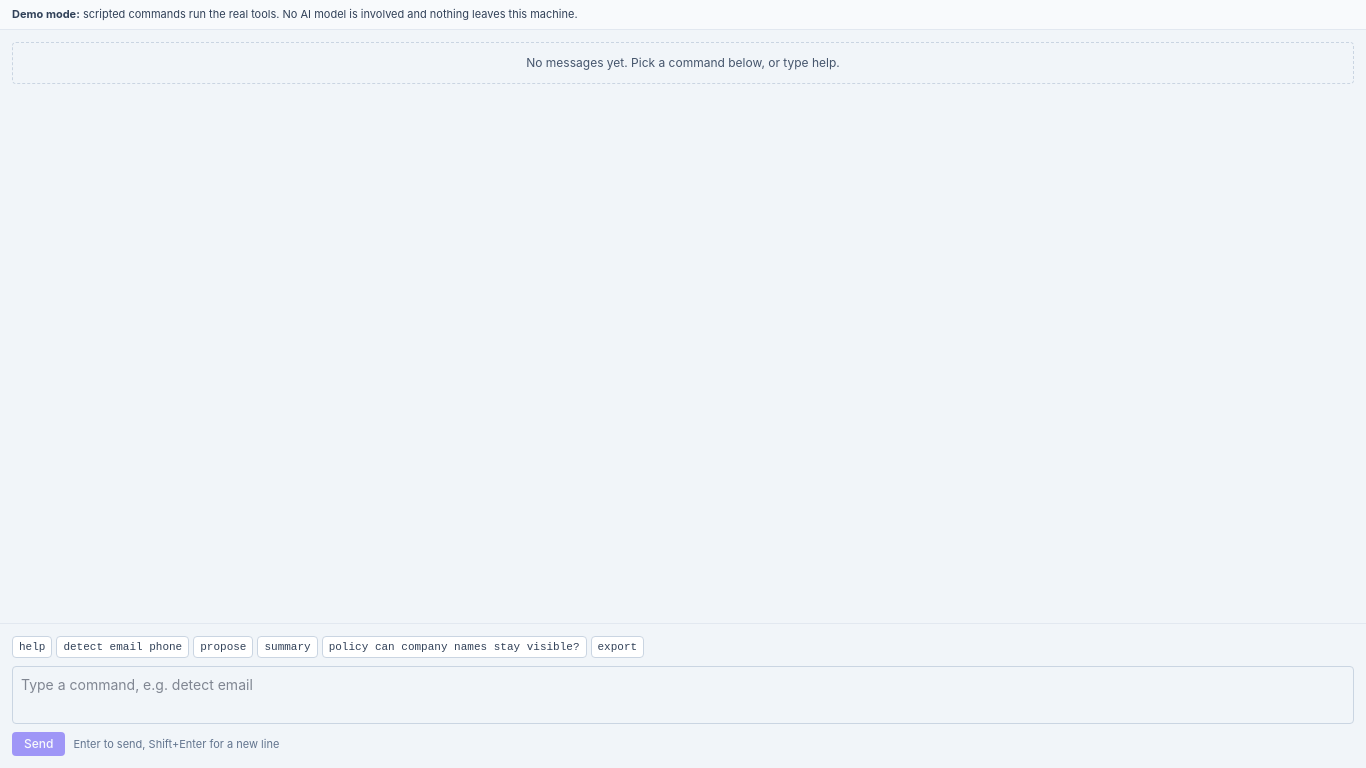
Test: ChatPanel: export hand-off › shows no hand-off card when the export did not fail
Type "summary" into the text box named "Message to the assistant" at {"x": 683, "y": 695}, box [12,666,1354,724]
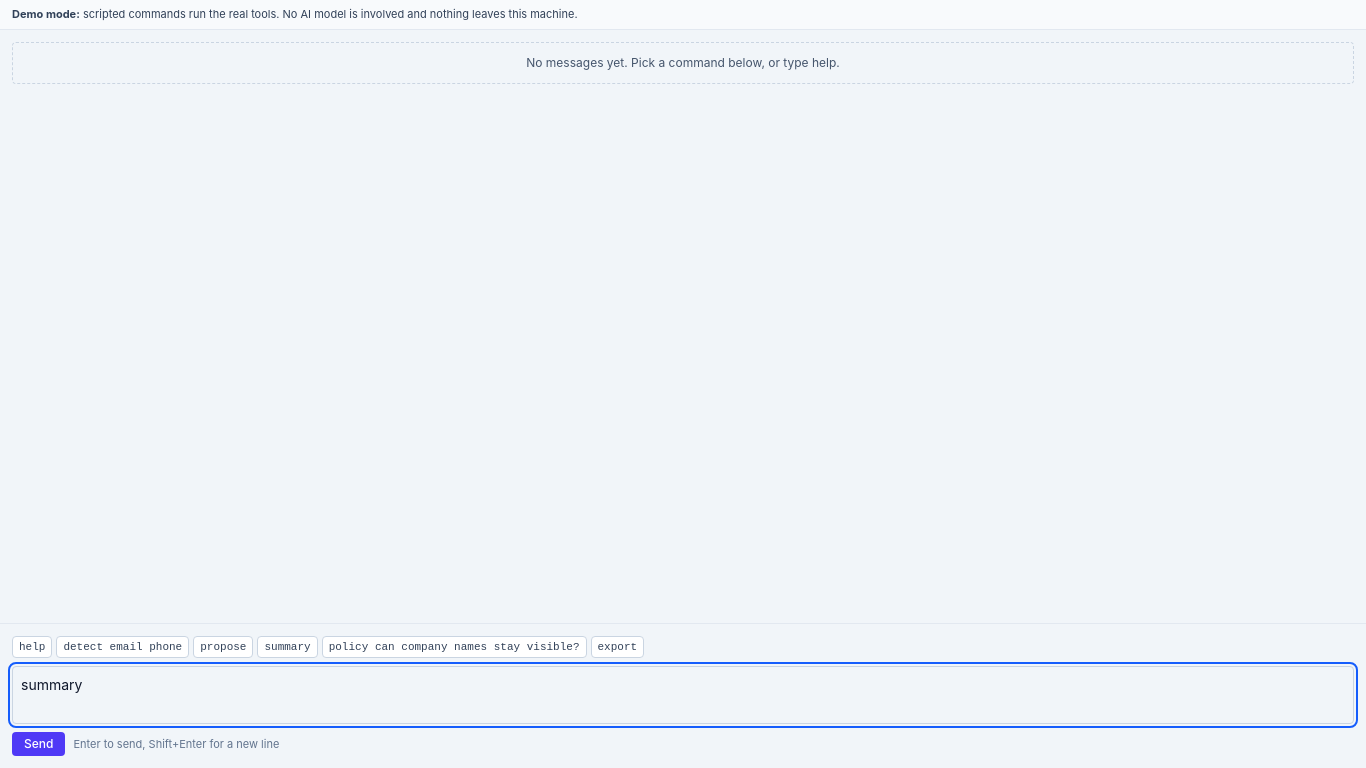
Click the button "Send" at {"x": 39, "y": 744}, box [12,732,65,756]
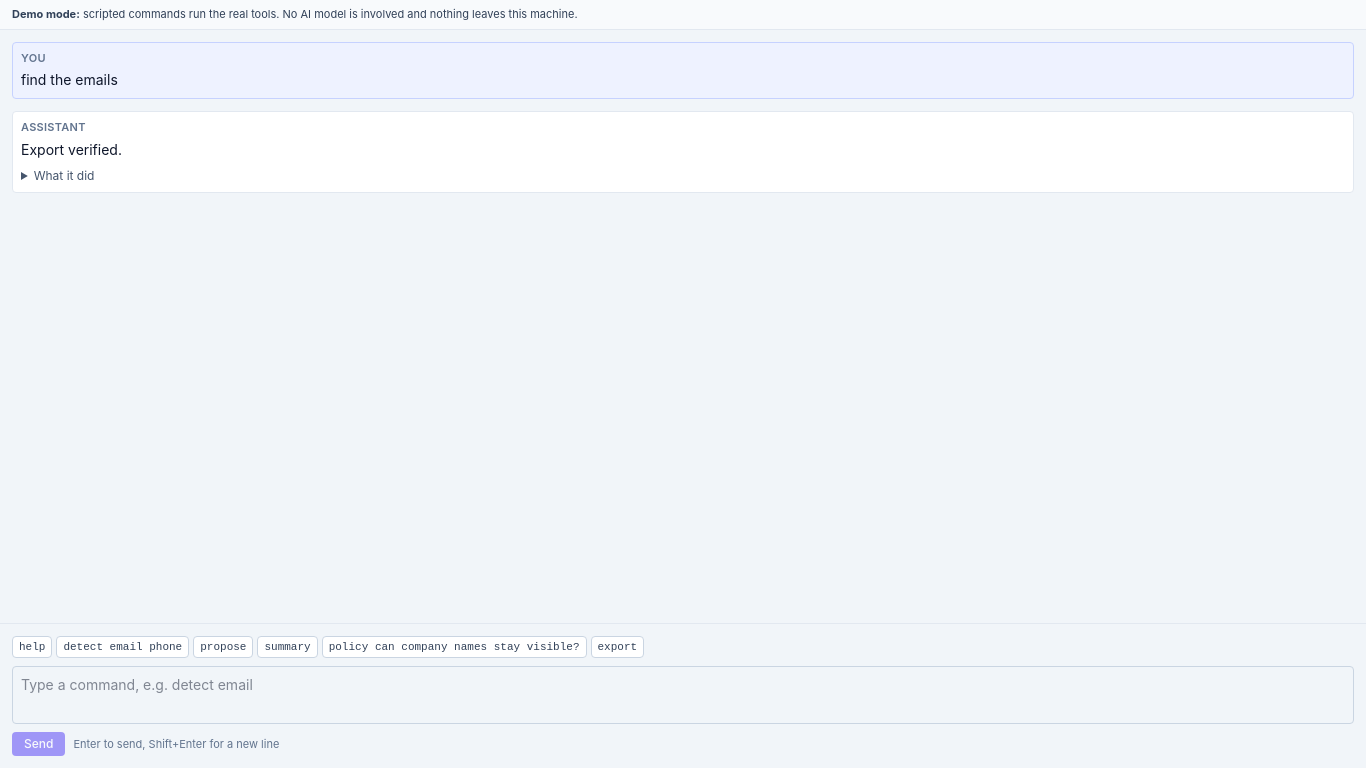
Expected: the text "Export verified." is shown, [21,141,122,158]
